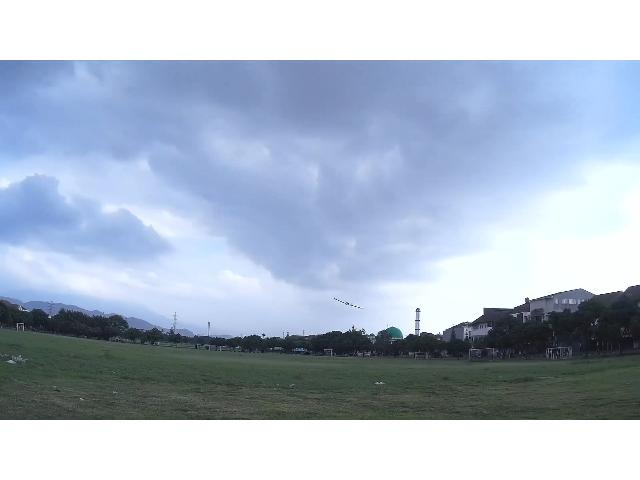Anti-Drone: (334, 298, 362, 310)
